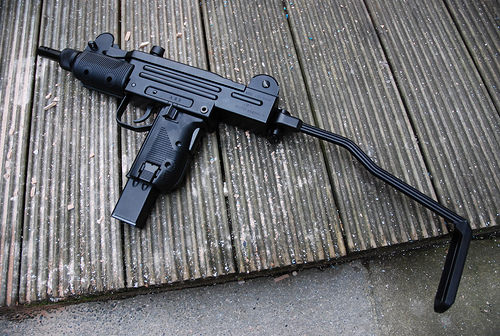rifle: (11, 25, 476, 304)
